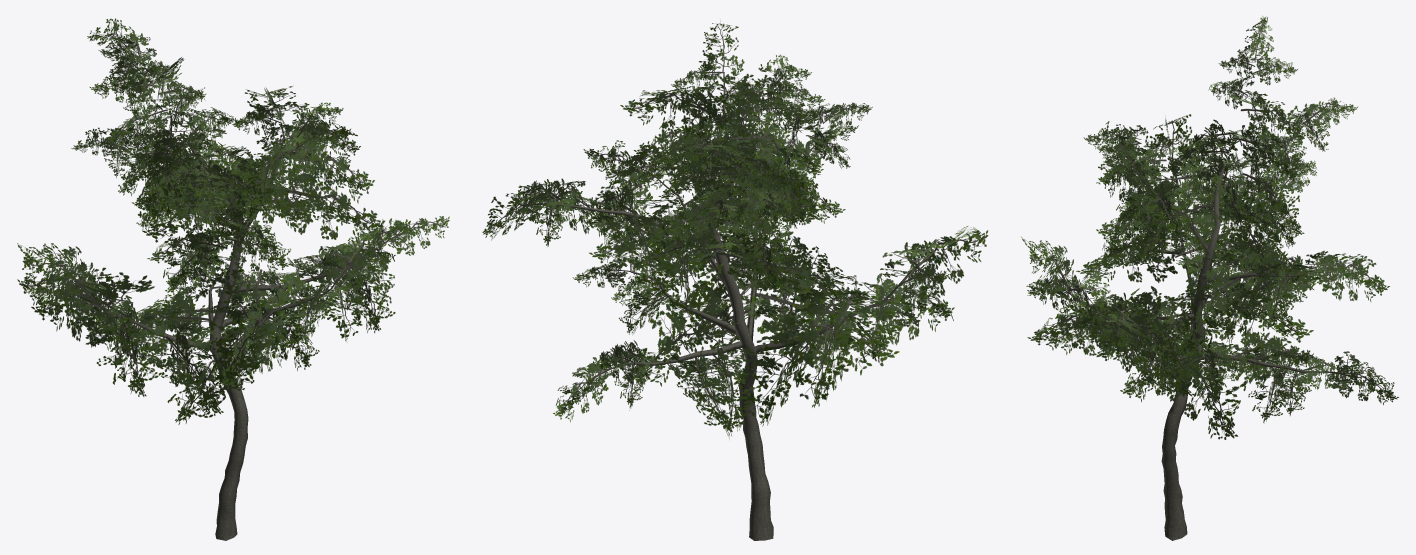
The model's file is oak_medium_1.glb.
3 renders of one model, left to right at view 1: azimuth 30°, elevation 25°; view 2: azimuth 150°, elevation 25°; view 3: azimuth 270°, elevation 25°, orthographic. The views are drawn at different scales.
Visible parts, largest first — view 1: Medium_oak_tree__001_LOD1; view 2: Medium_oak_tree__001_LOD1; view 3: Medium_oak_tree__001_LOD1.
Boxes of the visible parts, box(x1,y1,x2,y2) form: Medium_oak_tree__001_LOD1: box(17, 18, 449, 540); Medium_oak_tree__001_LOD1: box(482, 21, 988, 540); Medium_oak_tree__001_LOD1: box(1021, 15, 1398, 540).
Size of the model in its own units: 8.89 by 10.54 by 7.46.
2 materials, 2 textured.
